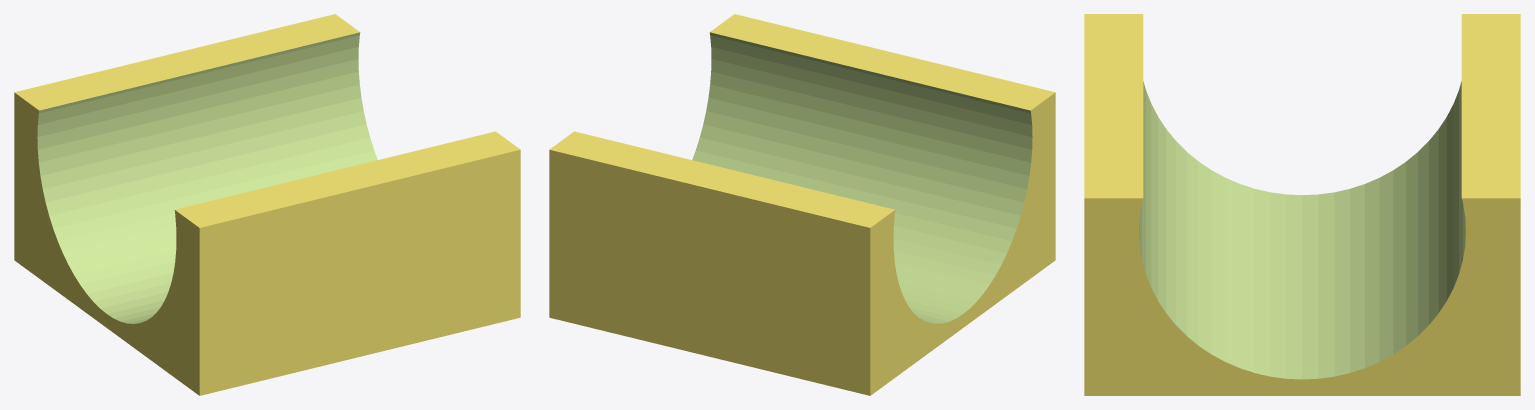
The model's file is halfpipe.glb.
3 renders of one model, left to right at view 1: azimuth 30°, elevation 25°; view 2: azimuth 150°, elevation 25°; view 3: azimuth 270°, elevation 25°, orthographic. The views are drawn at different scales.
Bounding box in the file's own units: 24 × 12 × 24.
